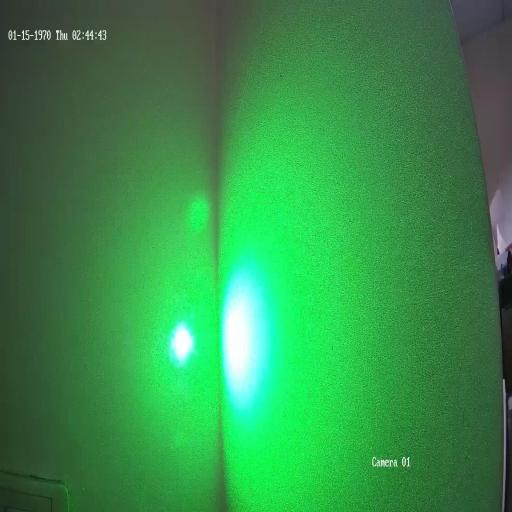laser: (161, 302, 202, 384)
